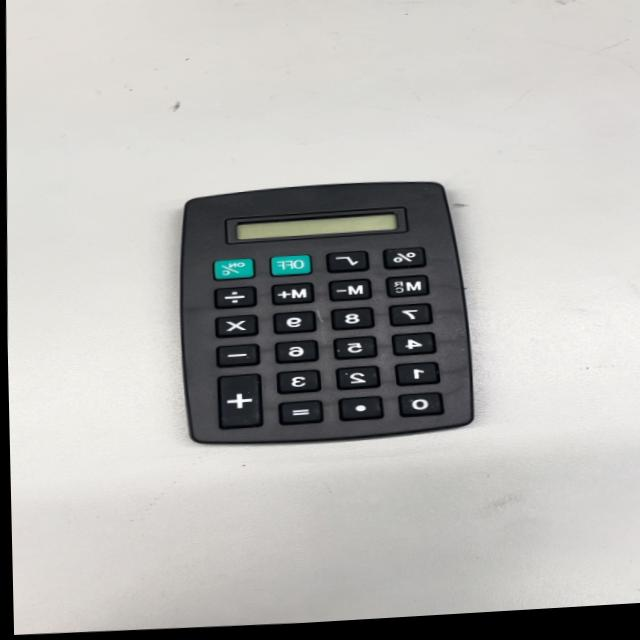calculator: (180, 156, 481, 455)
